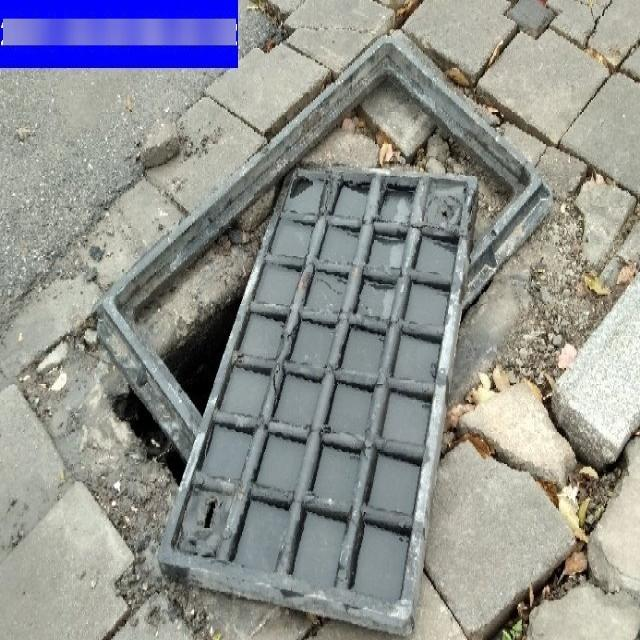Lose: (92, 32, 555, 631)
